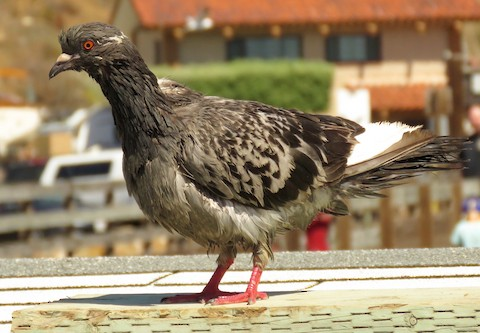pigeon: (43, 20, 473, 306)
